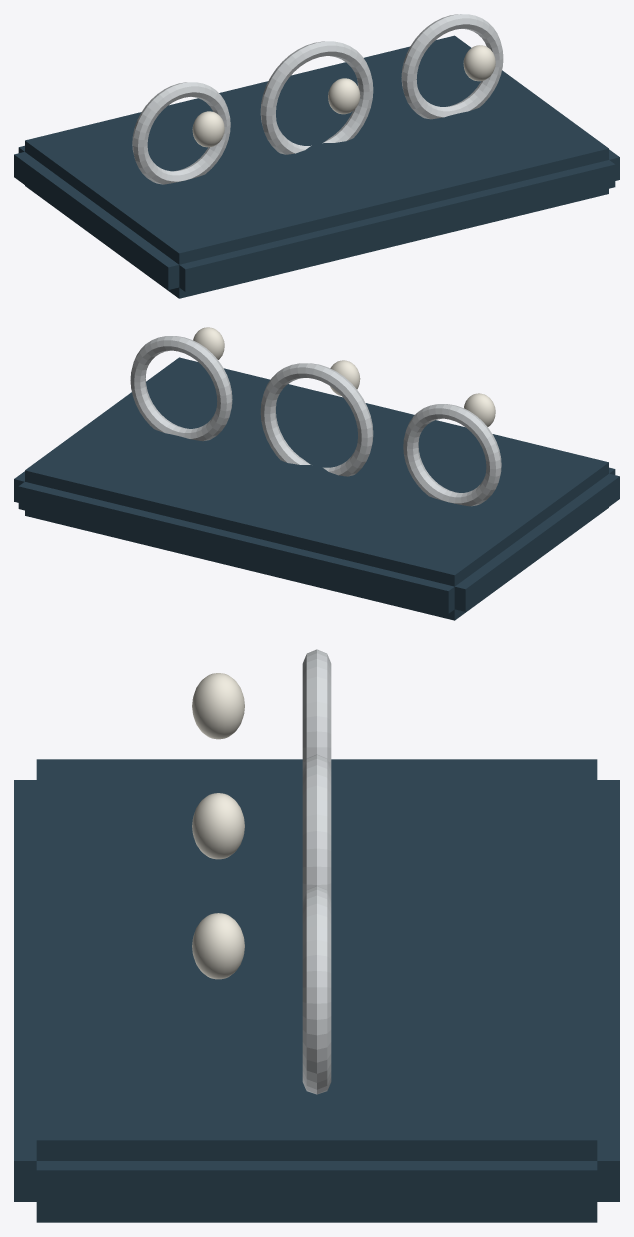
File: sku_v24_ring_set.glb
The picture shows the model from 3 angles, top to bottom: view 1: azimuth 30°, elevation 25°; view 2: azimuth 150°, elevation 25°; view 3: azimuth 270°, elevation 25°; orthographic projection. The views are drawn at different scales.
Visible parts, largest first — view 1: sku_v24_ring_set_V24_velvet_blue, sku_v24_ring_set_V24_brushed_silver, sku_v24_ring_set_V24_warm_ceramic; view 2: sku_v24_ring_set_V24_velvet_blue, sku_v24_ring_set_V24_brushed_silver, sku_v24_ring_set_V24_warm_ceramic; view 3: sku_v24_ring_set_V24_velvet_blue, sku_v24_ring_set_V24_brushed_silver, sku_v24_ring_set_V24_warm_ceramic.
Boxes of the visible parts, box(x1,y1,x2,y2) form: sku_v24_ring_set_V24_velvet_blue: box(14, 35, 619, 298); sku_v24_ring_set_V24_brushed_silver: box(132, 14, 503, 184); sku_v24_ring_set_V24_warm_ceramic: box(192, 45, 495, 147); sku_v24_ring_set_V24_velvet_blue: box(14, 357, 619, 620); sku_v24_ring_set_V24_brushed_silver: box(130, 336, 501, 506); sku_v24_ring_set_V24_warm_ceramic: box(193, 327, 495, 426); sku_v24_ring_set_V24_velvet_blue: box(14, 759, 619, 1222); sku_v24_ring_set_V24_brushed_silver: box(302, 649, 331, 1094); sku_v24_ring_set_V24_warm_ceramic: box(192, 673, 244, 979).
Bounding box in the file's own units: 0.25 × 0.0778 × 0.16.
